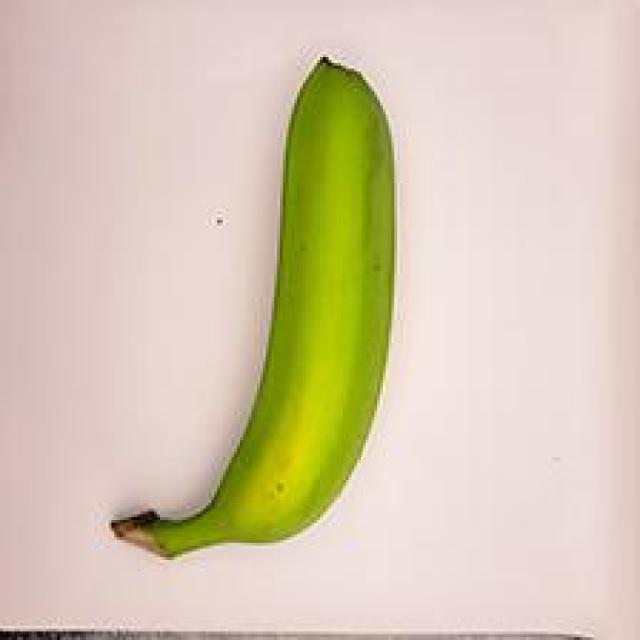Unripe: (96, 26, 435, 576)
